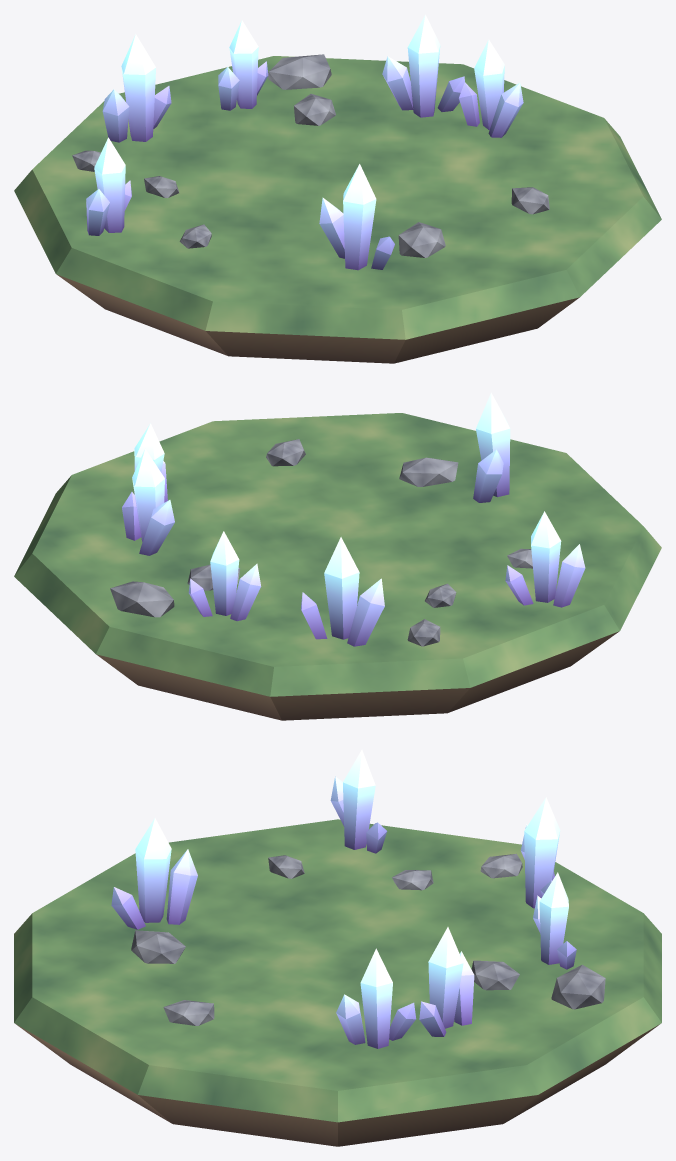
Rendered from crystal-ground.glb.
The picture shows the model from 3 angles, top to bottom: view 1: azimuth 30°, elevation 25°; view 2: azimuth 150°, elevation 25°; view 3: azimuth 270°, elevation 25°; orthographic projection. The views are drawn at different scales.
Visible parts, largest first — view 1: Ground, Crystals, Rocks; view 2: Ground, Crystals, Rocks; view 3: Ground, Crystals, Rocks.
Part boxes in pixels (box(x1,y1,x2,y2)): Ground: box(14, 56, 661, 363); Crystals: box(86, 14, 523, 270); Rocks: box(72, 54, 549, 257); Ground: box(14, 413, 661, 720); Crystals: box(122, 392, 585, 646); Rocks: box(110, 439, 532, 646); Ground: box(14, 819, 661, 1146); Crystals: box(111, 749, 576, 1048); Rocks: box(131, 853, 605, 1025).
Bounding box in the file's own units: 4.24 × 1.23 × 4.03.
Materials: 1 (1 with a texture image).
